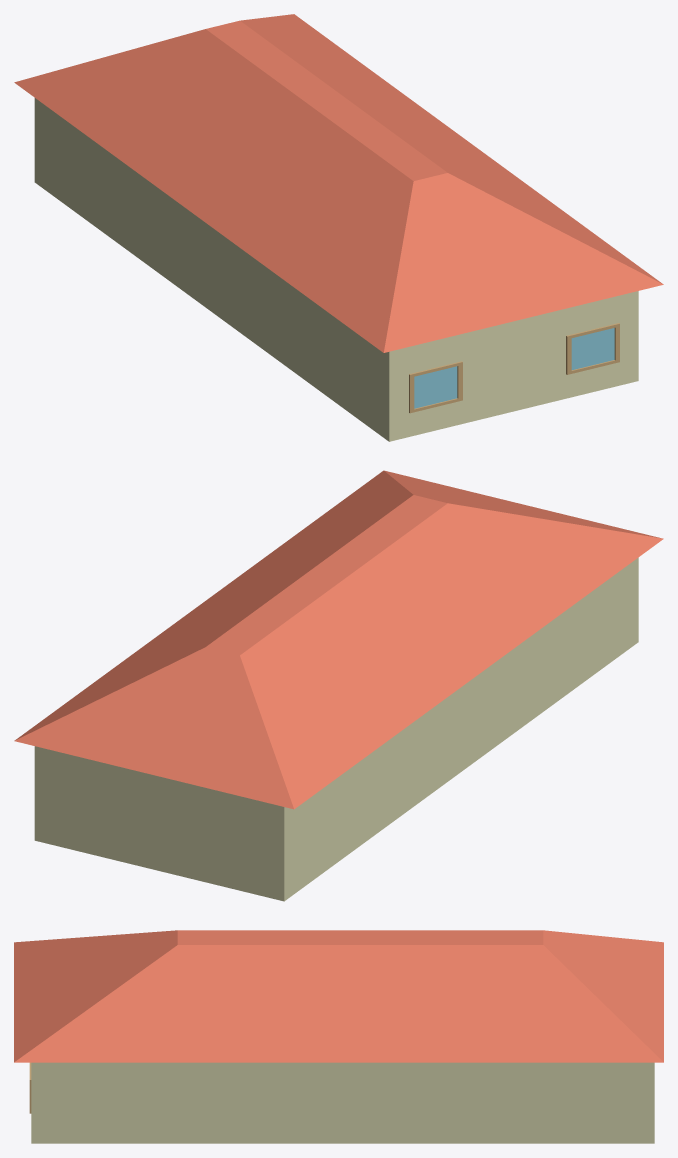
File: House.fbx
3 renders of one model, top to bottom at view 1: azimuth 30°, elevation 25°; view 2: azimuth 150°, elevation 25°; view 3: azimuth 270°, elevation 25°, orthographic. The views are drawn at different scales.
Parts seen in each view (by area): view 1: Cube.001, Cube.002; view 2: Cube.001, Cube.002; view 3: Cube.001, Cube.002.
Part boxes in pixels (<box>): Cube.001: <box>14,14,663,352</box>; Cube.002: <box>34,98,638,441</box>; Cube.001: <box>14,470,663,809</box>; Cube.002: <box>34,557,638,901</box>; Cube.001: <box>14,930,663,1062</box>; Cube.002: <box>29,1062,654,1143</box>.
Size of the model in its own units: 732 by 433 by 1673.
